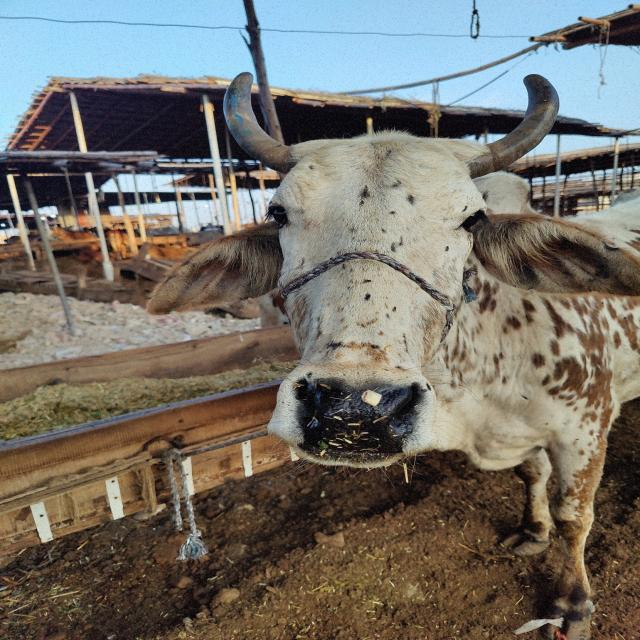muzzles: (288, 371, 428, 467)
